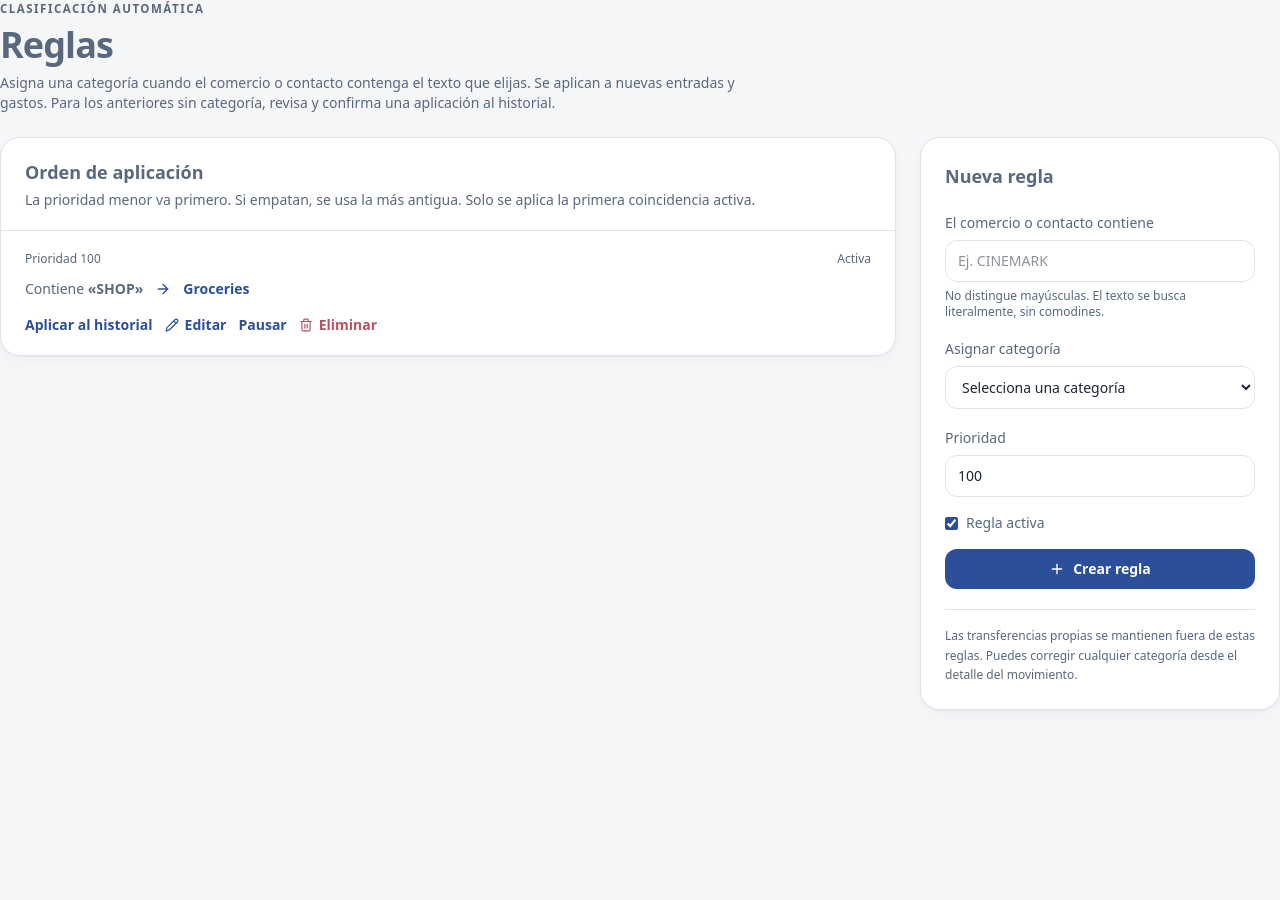
Test: previews from Rules and writes only after explicit confirmation, then refreshes the dashboard
Click the button with aria-label "Aplicar regla SHOP al historial": (89, 325) [25,315,153,335]
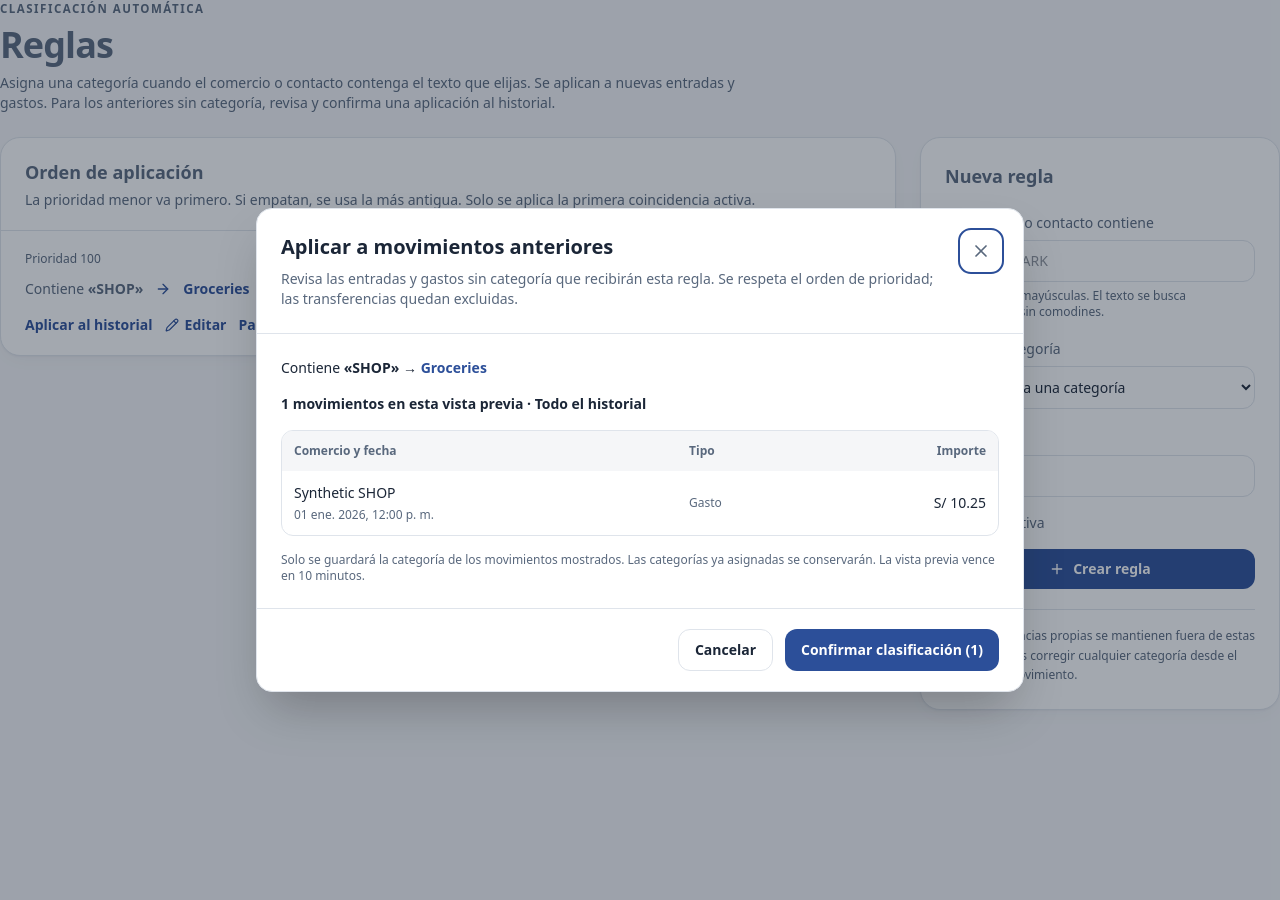
Result: the text "Synthetic SHOP" is shown at [294,483,396,502]
Result: the text "1 movimientos en esta vista previa · Todo el historial" is shown at [281,394,646,413]
Click the button "Confirmar clasificación (1)": (892, 650) [785,629,999,671]
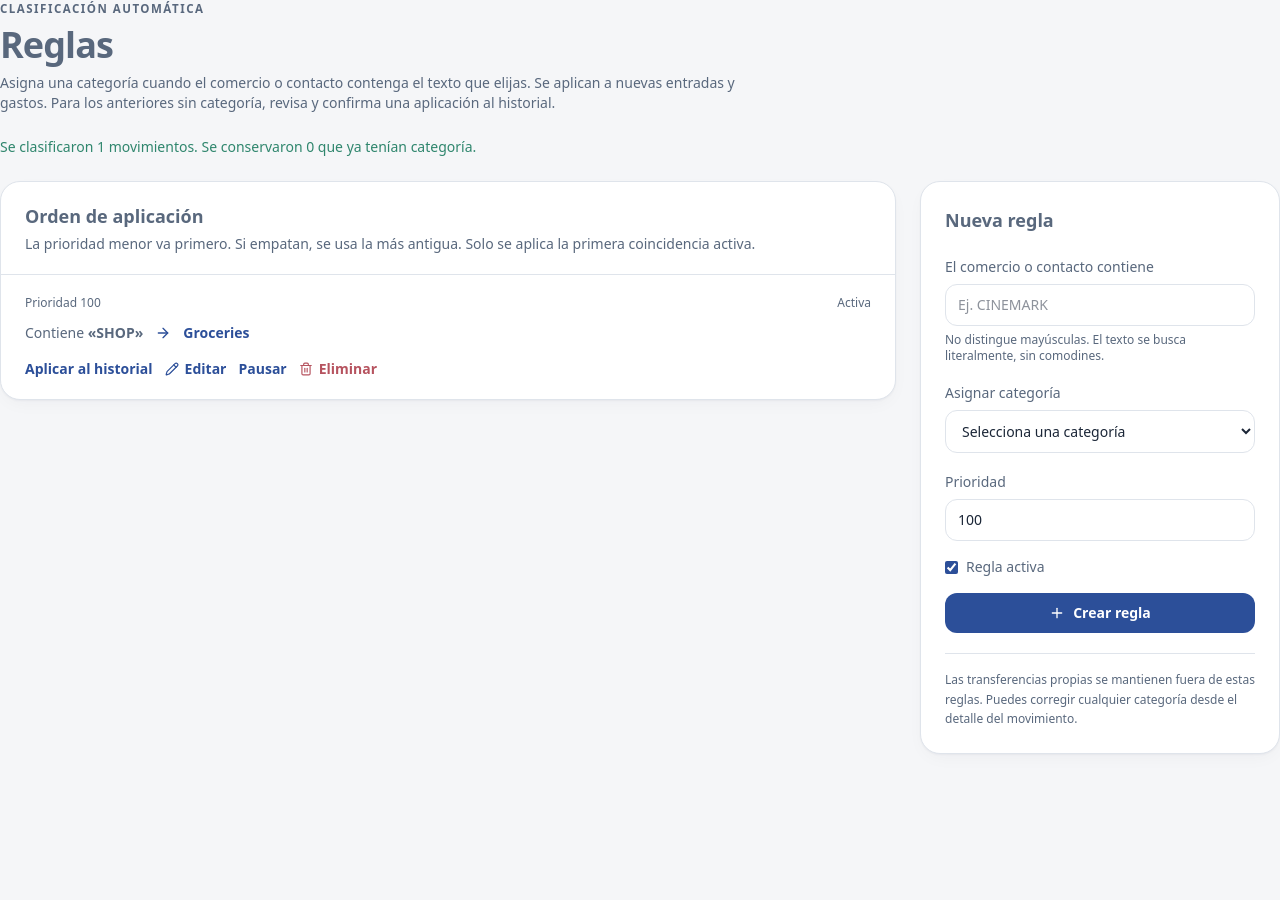
Result: the text "Se clasificaron 1 movimientos. Se conservaron 0 que ya tenían categoría." is shown at [0,137,476,156]
Result: the dialog is gone
